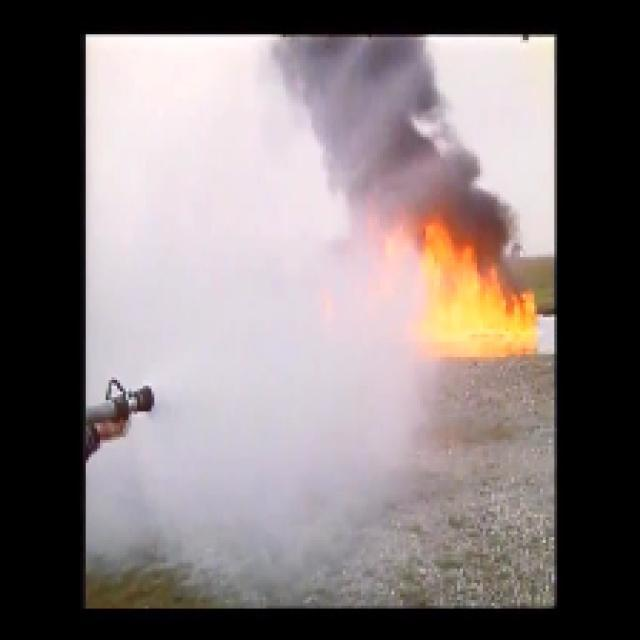Fire: (372, 223, 532, 360)
Smoke: (286, 37, 500, 217)
